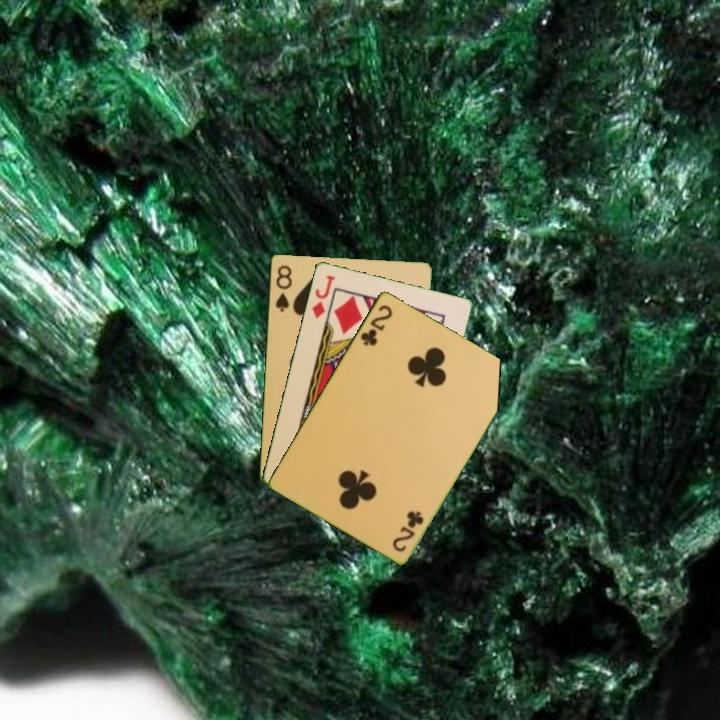2c: (357, 301, 395, 348), (389, 507, 427, 554)
8s: (272, 261, 295, 314)
Jd: (308, 271, 337, 321)
